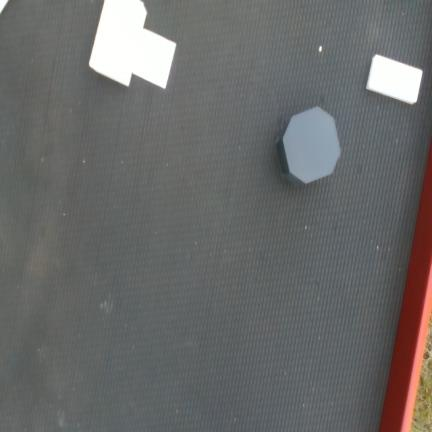Paralelepipedo: (366, 54, 423, 105)
Piramide: (132, 28, 176, 90)
Prisma_hexagonal: (275, 106, 341, 185), (88, 0, 147, 88)
